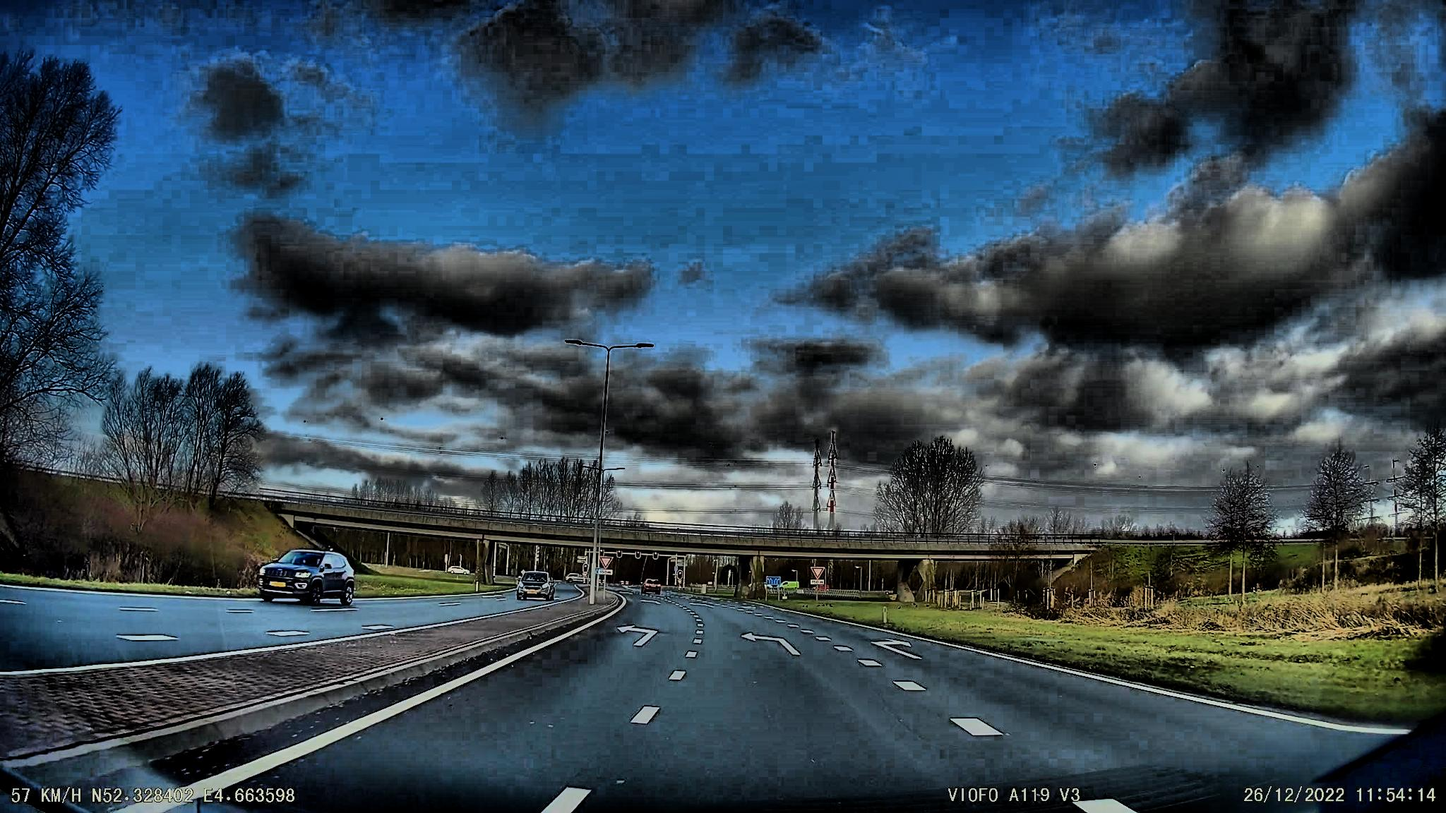Roads: (166, 599, 1446, 813)
